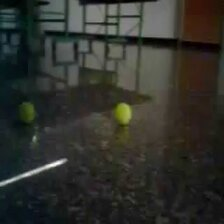tennis: (112, 102, 131, 126), (18, 101, 37, 123)
